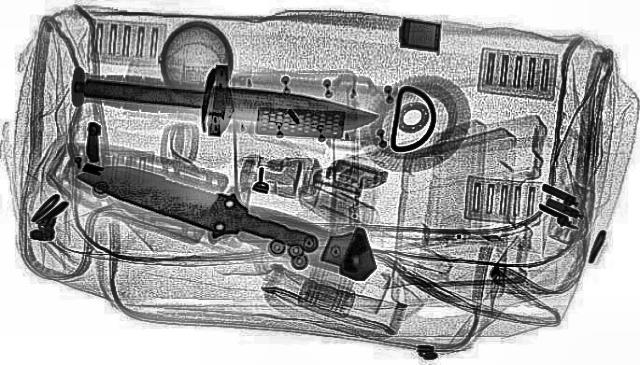Knife: (52, 147, 342, 269), (55, 50, 389, 148)
